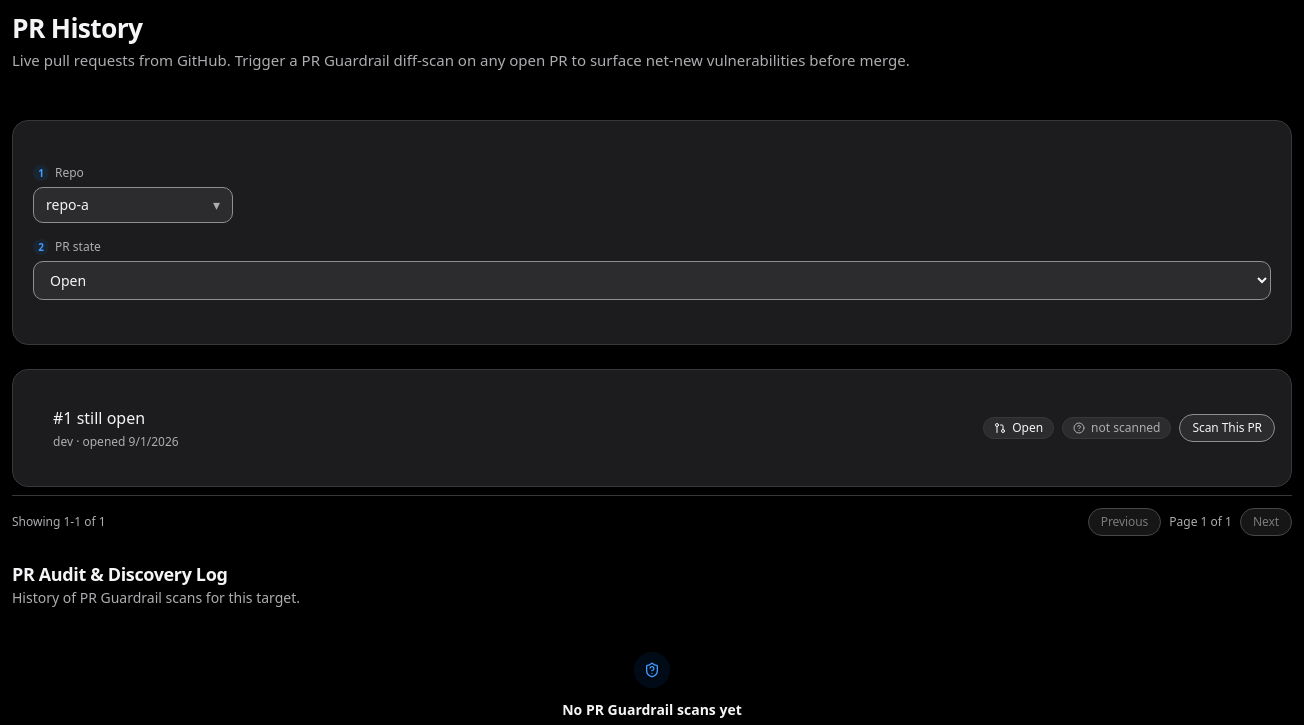
Test: PR state filter › shows merged PRs on their own, not lumped in with closed ones
This screenshot has width=1304, height=725.
Expected: the link "#1 still open" is shown, [53,406,145,430]
Step 1. Select "Merged" in the dropdown named "PR state" → (652, 281), box [33,261,1271,300]
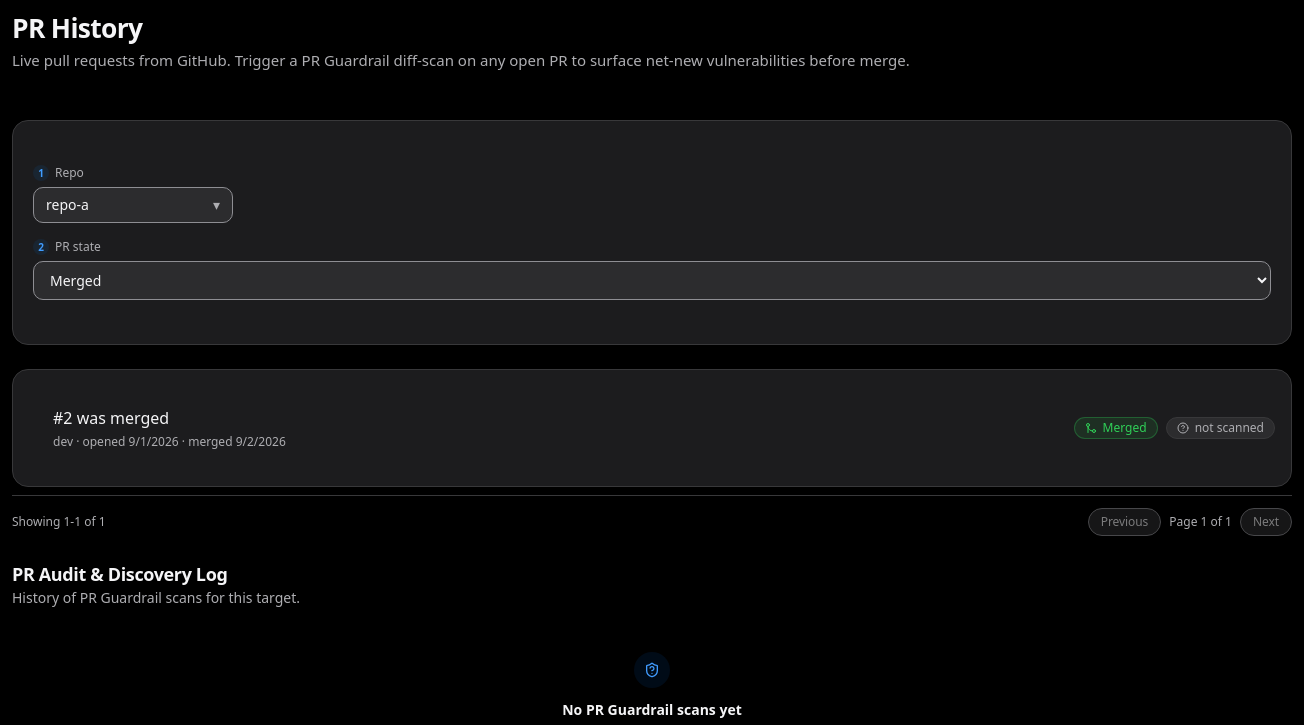
Expected: the link "#2 was merged" is shown, [53,406,169,430]
Expected: the link "still open" is gone
